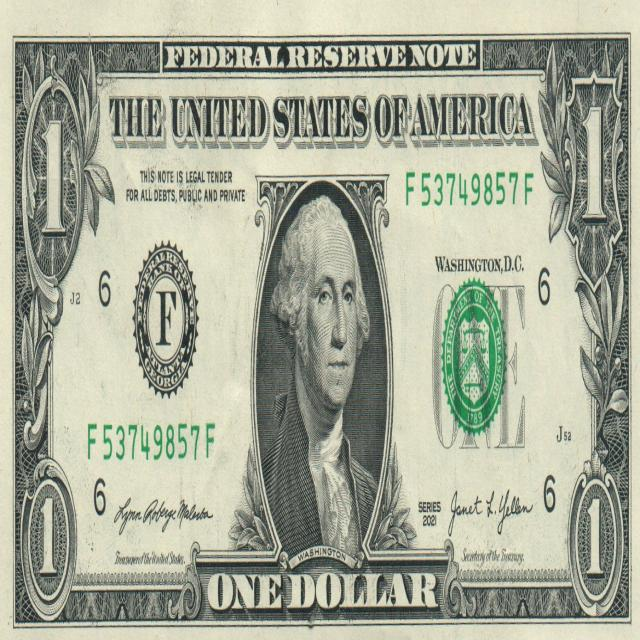SerialNumber: (406, 172, 533, 206), (88, 424, 200, 460)
